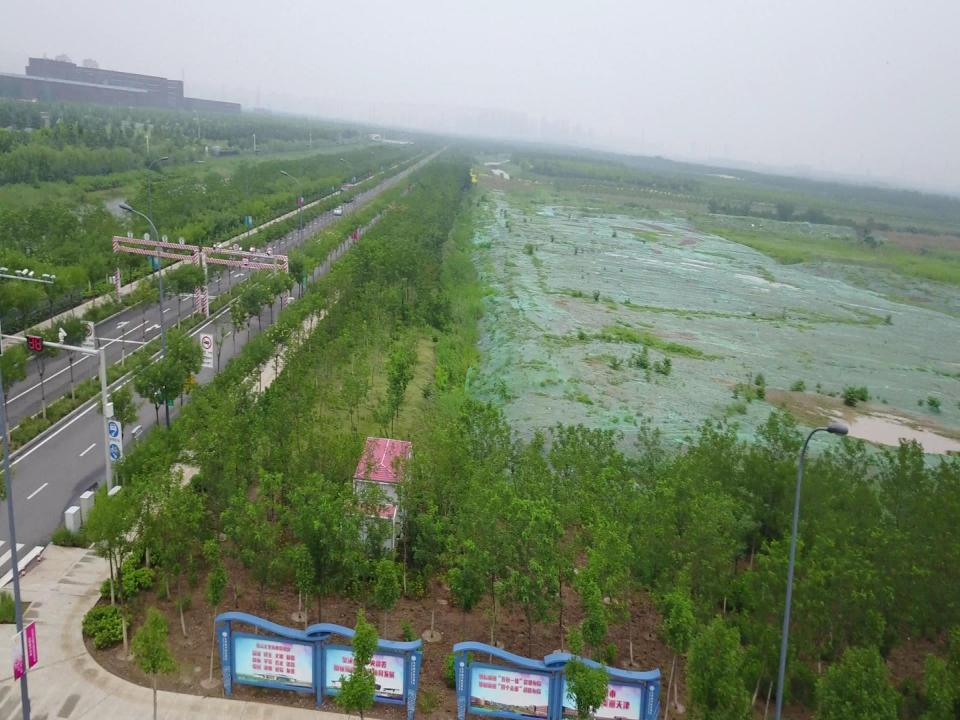car: (334, 206, 343, 216)
